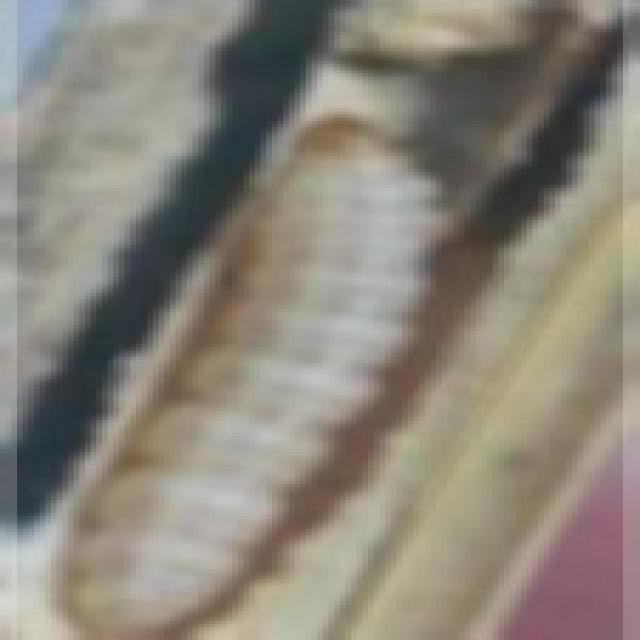peach borer: (49, 116, 440, 632)
